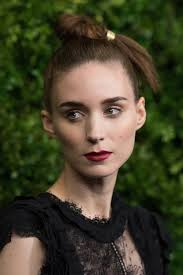person: (41, 38, 147, 181)
